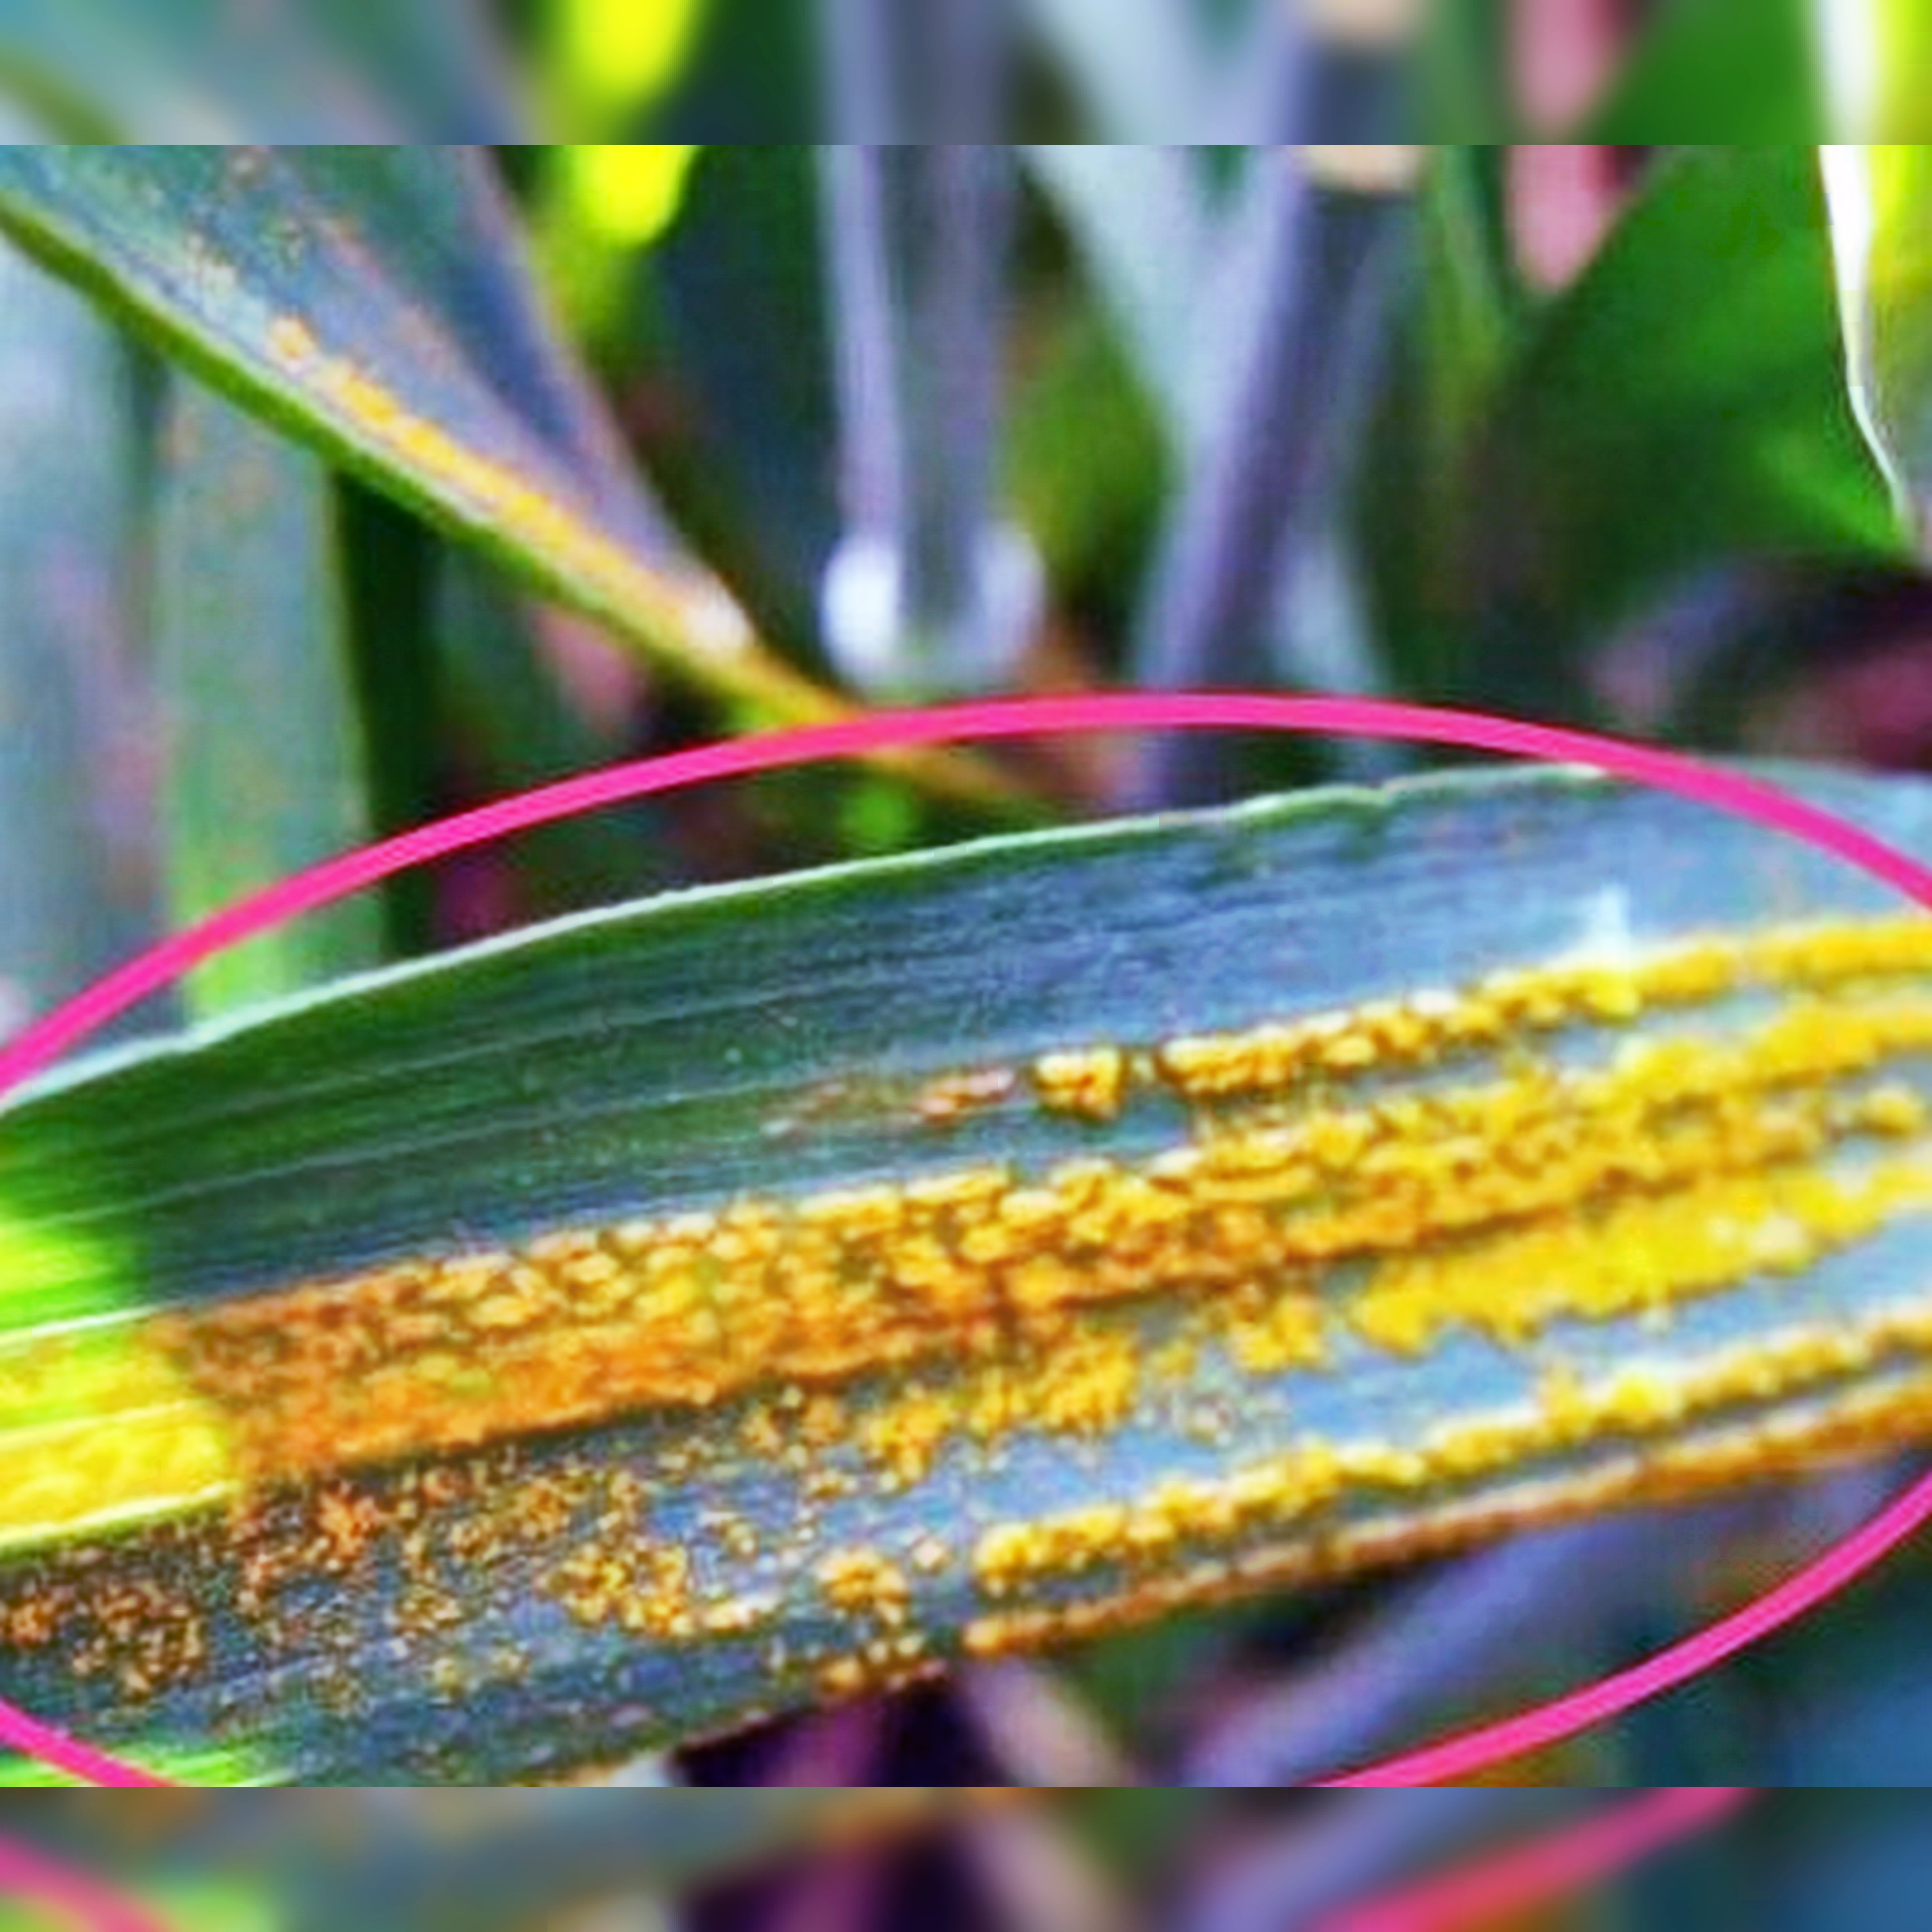Leaf Rust: (221, 819, 1808, 1721)
